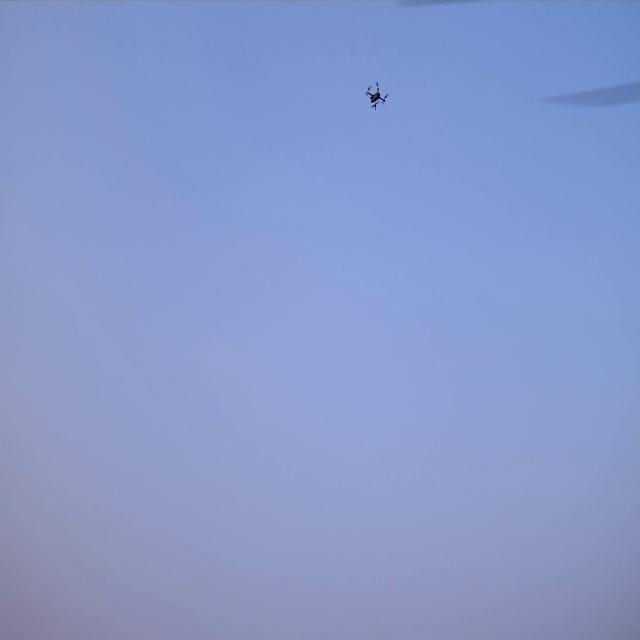UAV: (366, 84, 386, 110)
